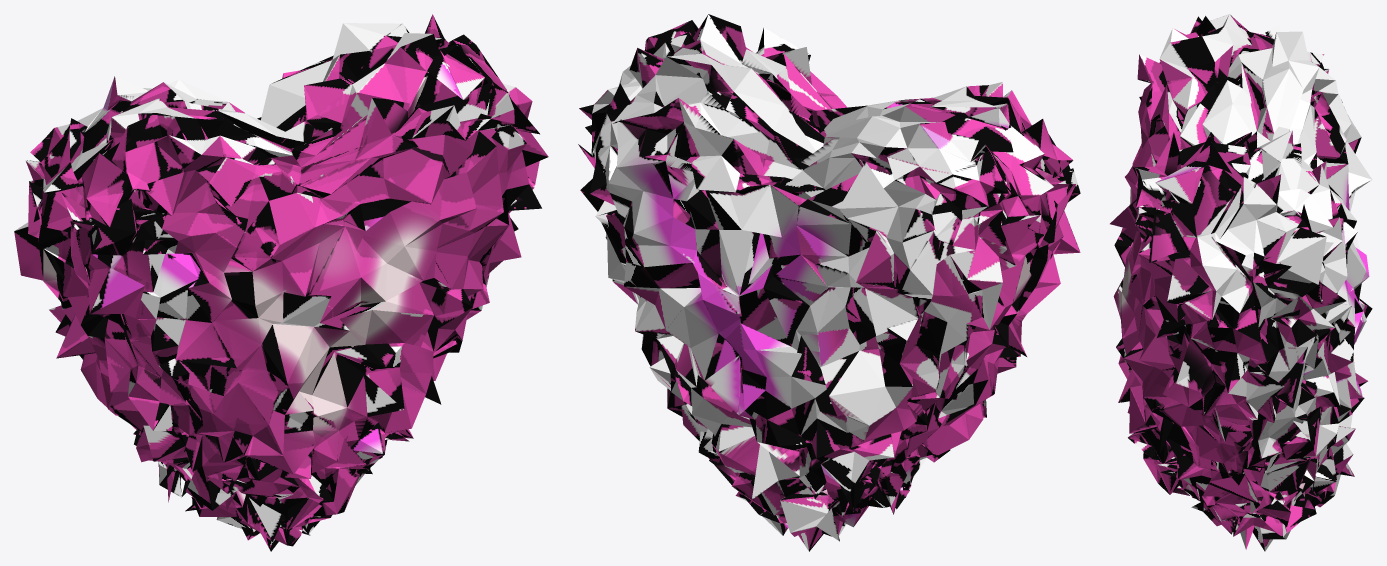
Rendered from _heart_splitter.dae.
The picture shows the model from 3 angles, left to right: view 1: azimuth 30°, elevation 25°; view 2: azimuth 150°, elevation 25°; view 3: azimuth 270°, elevation 25°; orthographic projection. The views are drawn at different scales.
Visible parts, largest first — view 1: Cube; view 2: Cube; view 3: Cube.
Boxes of the visible parts, <box> form: Cube: <box>14,14,548,551</box>; Cube: <box>578,14,1080,551</box>; Cube: <box>1110,14,1372,551</box>.
Bounding box in the file's own units: 27.29 × 13.9 × 27.39.
1 material, 1 textured.
